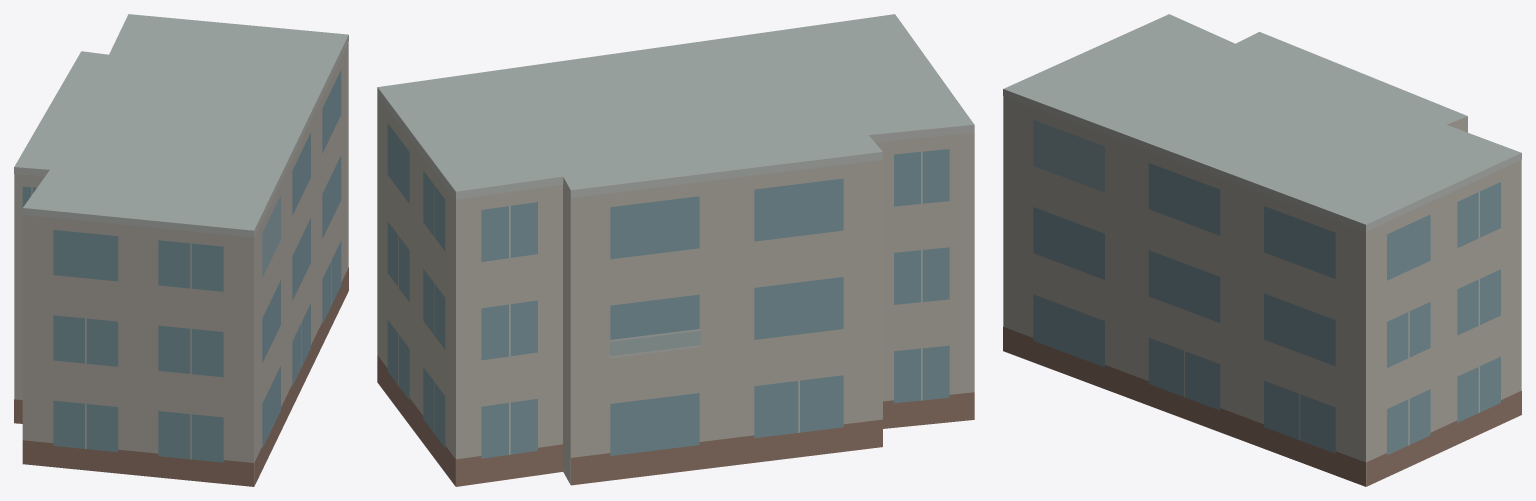
The model's file is survey-upis-32931403.glb.
3 renders of one model, left to right at view 1: azimuth 30°, elevation 25°; view 2: azimuth 150°, elevation 25°; view 3: azimuth 270°, elevation 25°, orthographic. The views are drawn at different scales.
Parts seen in each view (by area): view 1: survey-upis-32931403.tmp; view 2: survey-upis-32931403.tmp; view 3: survey-upis-32931403.tmp.
Boxes of the visible parts, <box> form: survey-upis-32931403.tmp: <box>14,14,348,486</box>; survey-upis-32931403.tmp: <box>377,14,974,486</box>; survey-upis-32931403.tmp: <box>1003,14,1521,486</box>.
Size of the model in its own units: 15.79 by 9.15 by 16.42.
